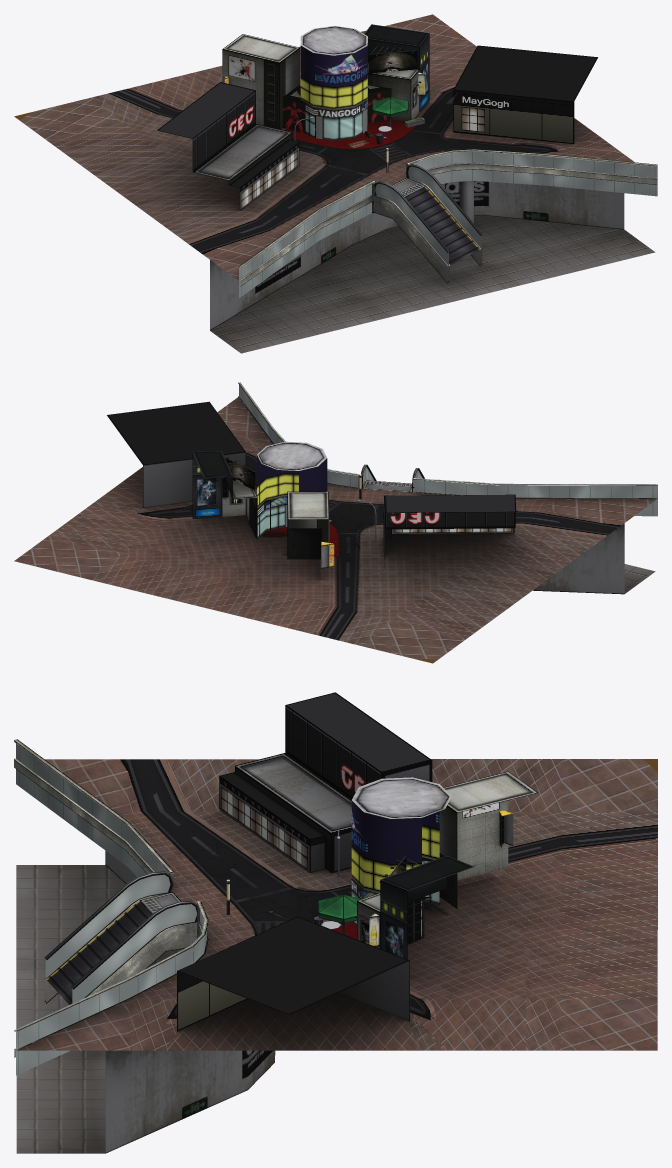
Rendered from ground_03.FBX.
The picture shows the model from 3 angles, top to bottom: view 1: azimuth 30°, elevation 25°; view 2: azimuth 150°, elevation 25°; view 3: azimuth 270°, elevation 25°; orthographic projection. The views are drawn at different scales.
Parts seen in each view (by area): view 1: ground_03, below, cityhouse_03, cityhouse_02, glass, cityhouse_01, elevator, track, umbrella, pillar; view 2: ground_03, cityhouse_03, cityhouse_02, cityhouse_01, glass, below, elevator; view 3: ground_03, below, cityhouse_03, cityhouse_01, cityhouse_02, glass, elevator, track, umbrella.
Boxes of the visible parts, bbox=[...] form: ground_03: bbox=[14, 14, 634, 280]; below: bbox=[210, 181, 655, 353]; cityhouse_03: bbox=[222, 24, 429, 140]; cityhouse_02: bbox=[453, 45, 597, 143]; glass: bbox=[239, 151, 657, 298]; cityhouse_01: bbox=[157, 82, 299, 210]; elevator: bbox=[238, 149, 657, 286]; track: bbox=[405, 186, 480, 265]; umbrella: bbox=[372, 97, 408, 132]; pillar: bbox=[459, 181, 473, 223]; ground_03: bbox=[14, 397, 657, 663]; cityhouse_03: bbox=[192, 441, 334, 585]; cityhouse_02: bbox=[107, 401, 245, 507]; cityhouse_01: bbox=[383, 494, 516, 566]; glass: bbox=[239, 384, 657, 516]; below: bbox=[533, 523, 655, 594]; elevator: bbox=[238, 382, 657, 498]; ground_03: bbox=[16, 759, 657, 1050]; below: bbox=[16, 850, 275, 1153]; cityhouse_03: bbox=[351, 771, 537, 959]; cityhouse_01: bbox=[219, 692, 432, 873]; cityhouse_02: bbox=[177, 916, 409, 1031]; glass: bbox=[16, 744, 206, 1075]; elevator: bbox=[14, 739, 208, 1057]; track: bbox=[46, 900, 151, 1006]; umbrella: bbox=[318, 894, 361, 934].
Bounding box in the file's own units: 9594 × 3197 × 8234.
